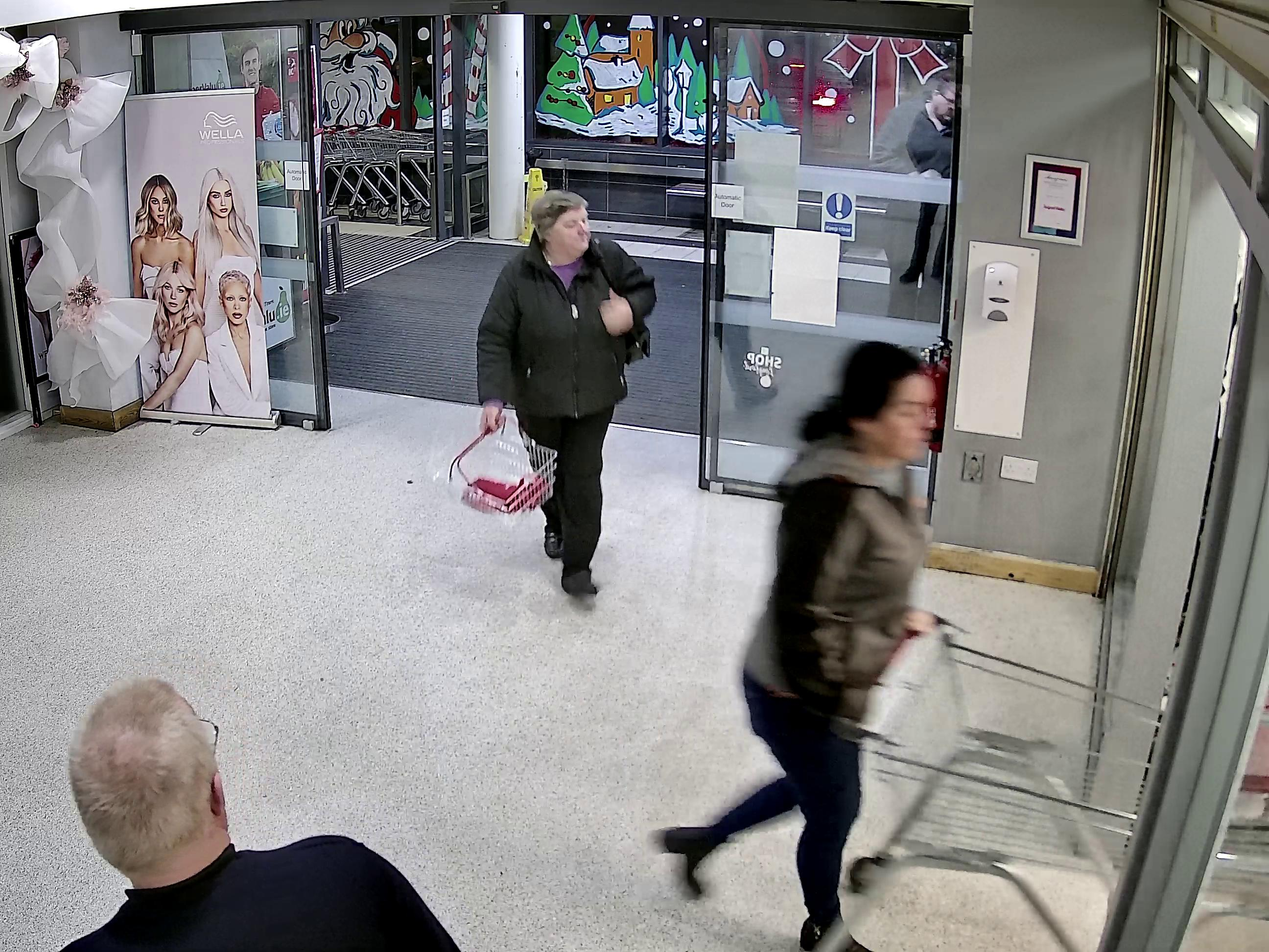backpack-or-handbag: (613, 312, 652, 365)
empty-basket: (427, 412, 558, 522)
empty-shopping-bags: (466, 474, 547, 513)
empty-trolly: (836, 614, 1167, 952)
person: (652, 336, 942, 951), (476, 192, 656, 597)
person-with-basket-trolly-shopping-bag-s-and-backpack-handbag: (428, 192, 654, 596)
person-with-empty-basket-trolly: (652, 333, 1166, 952)
